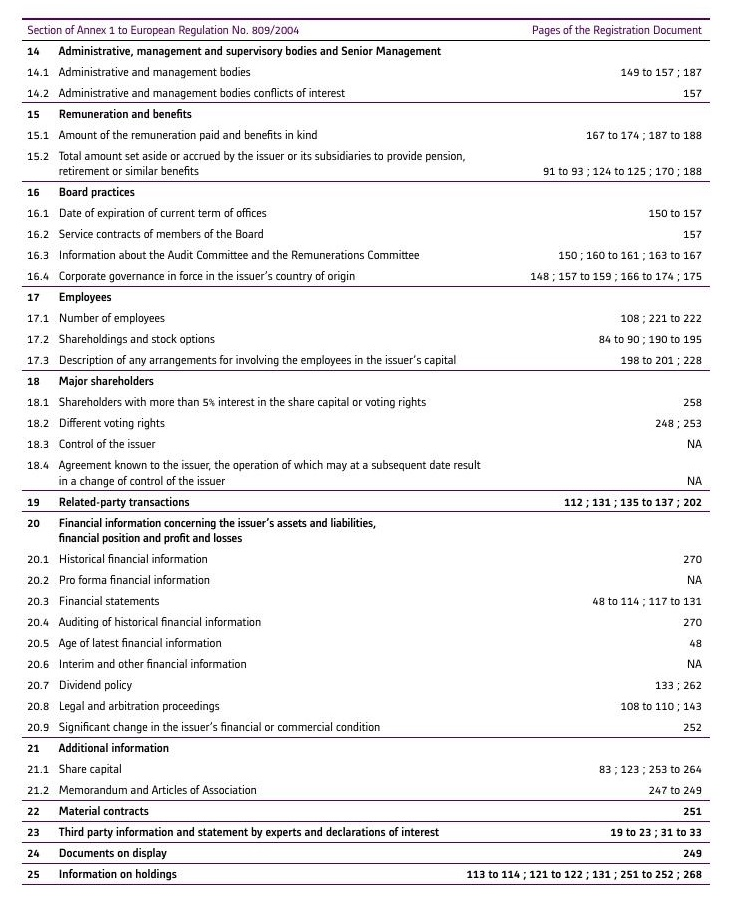table: (0, 0, 737, 900)
